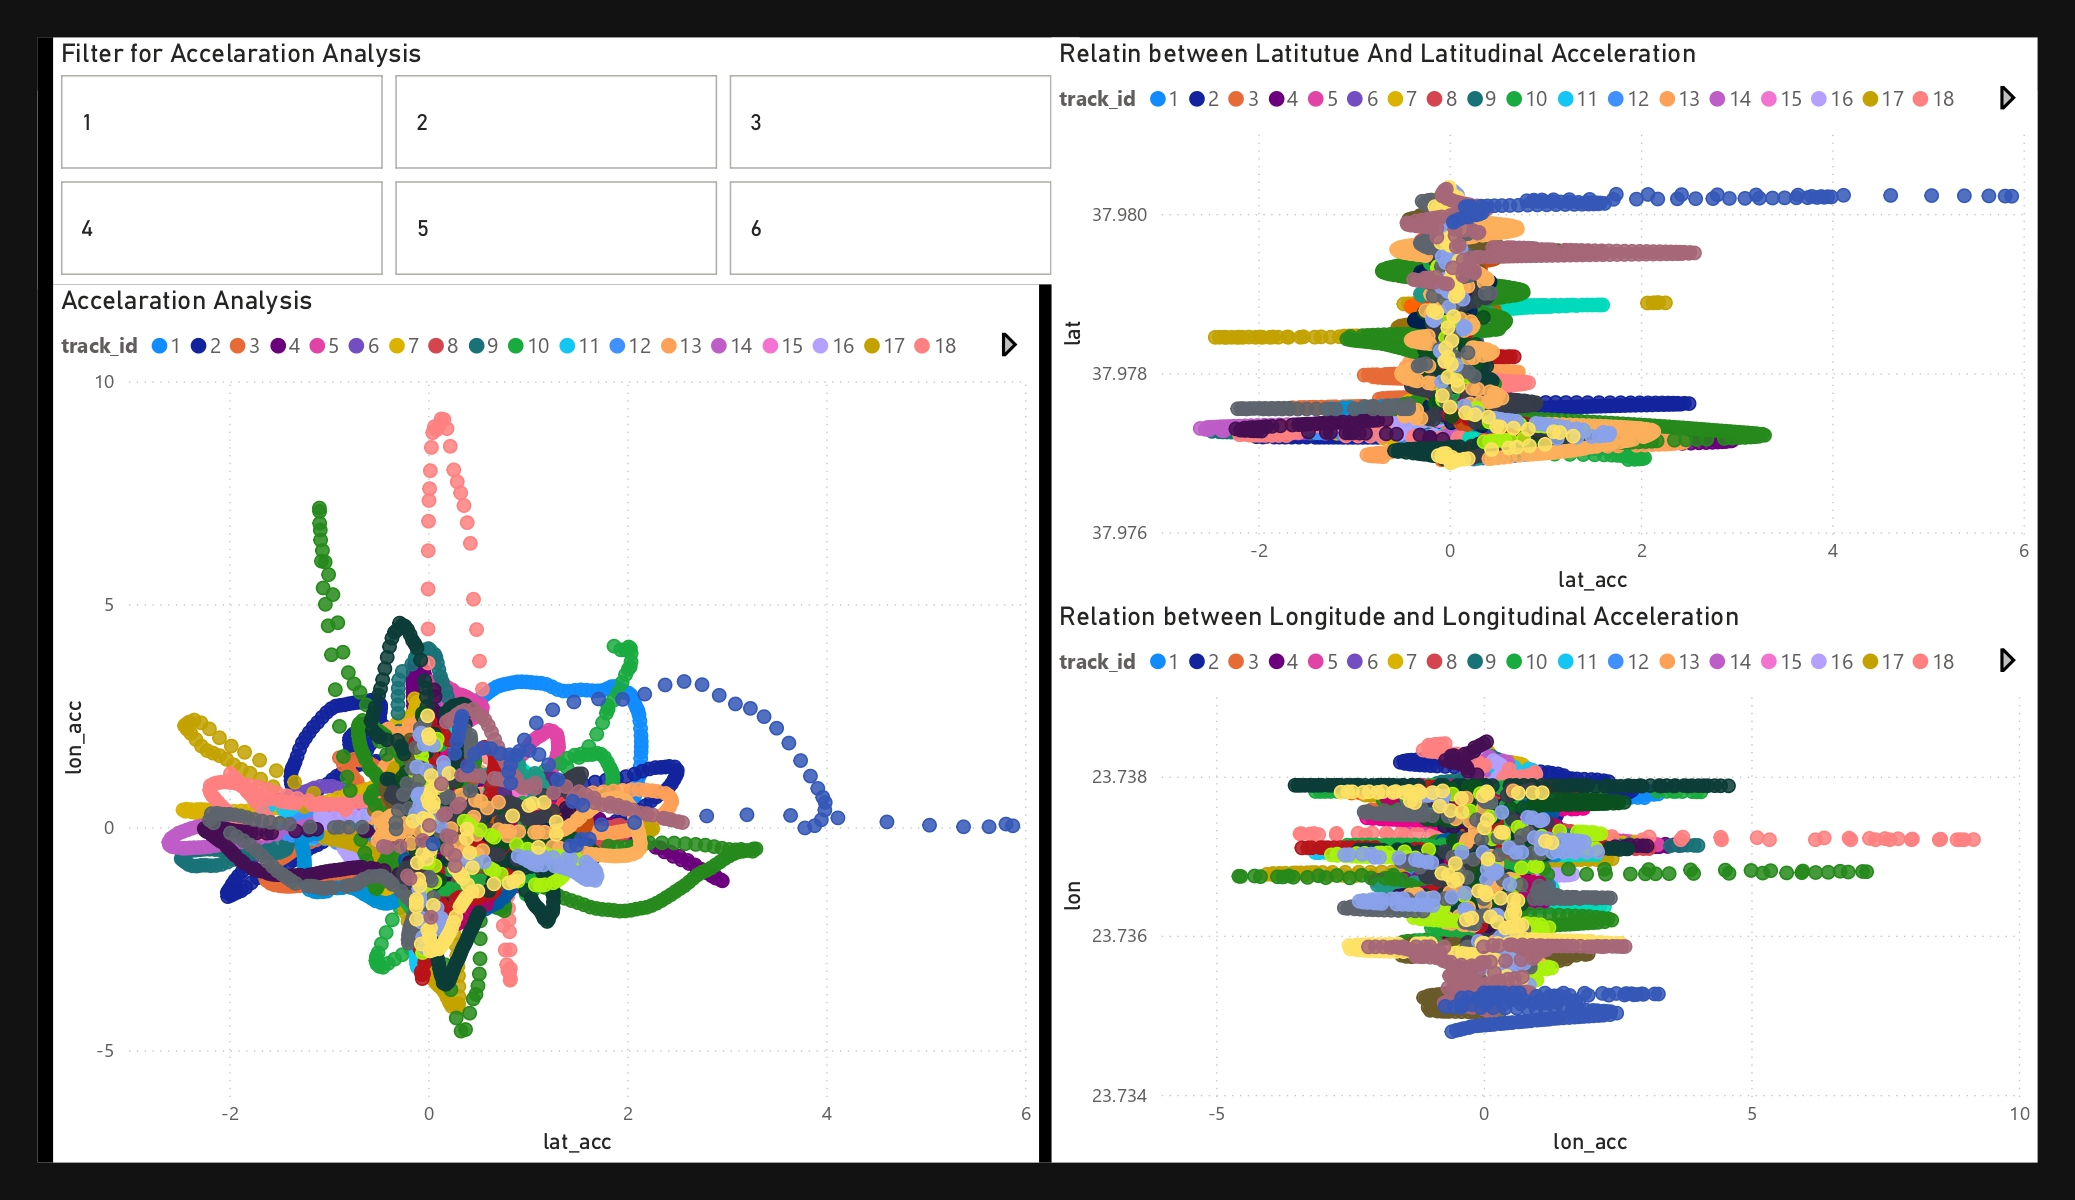

This screenshot's page, from the dashboard's own definition file:
{"tool":"powerbi","page":{"name":"Acceleration Relationships","canvas":[1280,720],"ordinal":1},"visuals":[{"type":"scatterChart","title":"Accelaration Analysis","fields":{"X":["public dimensional_df.lat_acc"],"Y":["public dimensional_df.lon_acc"],"Series":["public dimensional_df.track_id"]},"box":[9.9,157.7,631,562],"z":0},{"type":"advancedSlicerVisual","title":"Filter for Accelaration Analysis","fields":{"Values":["public dimensional_df.track_id"]},"box":[9.9,0,657.3,157.7],"z":1000},{"type":"scatterChart","title":"Relatin between Latitutue And Latitudinal Acceleration","fields":{"X":["public dimensional_df.lat_acc"],"Y":["public dimensional_df.lat"],"Series":["public dimensional_df.track_id"]},"box":[649,0,631,359.8],"z":2000},{"type":"scatterChart","title":"Relation between Longitude and Longitudinal Acceleration","fields":{"X":["public dimensional_df.lon_acc"],"Y":["public dimensional_df.lon"],"Series":["public dimensional_df.track_id"]},"box":[649,360,631,360],"z":3000}]}

Visuals, with their boxes on the page's 1280x720 design canvas (x1, y1, x2, y2). These are canvas units, not pixel positions in the 2075x1200 screenshot, which may show the page scaled, cropped or inside an application window:
"Accelaration Analysis" scatterChart: <bbox>10, 158, 641, 720</bbox>
"Filter for Accelaration Analysis" advancedSlicerVisual: <bbox>10, 0, 667, 158</bbox>
"Relatin between Latitutue And Latitudinal Acceleration" scatterChart: <bbox>649, 0, 1280, 360</bbox>
"Relation between Longitude and Longitudinal Acceleration" scatterChart: <bbox>649, 360, 1280, 720</bbox>
